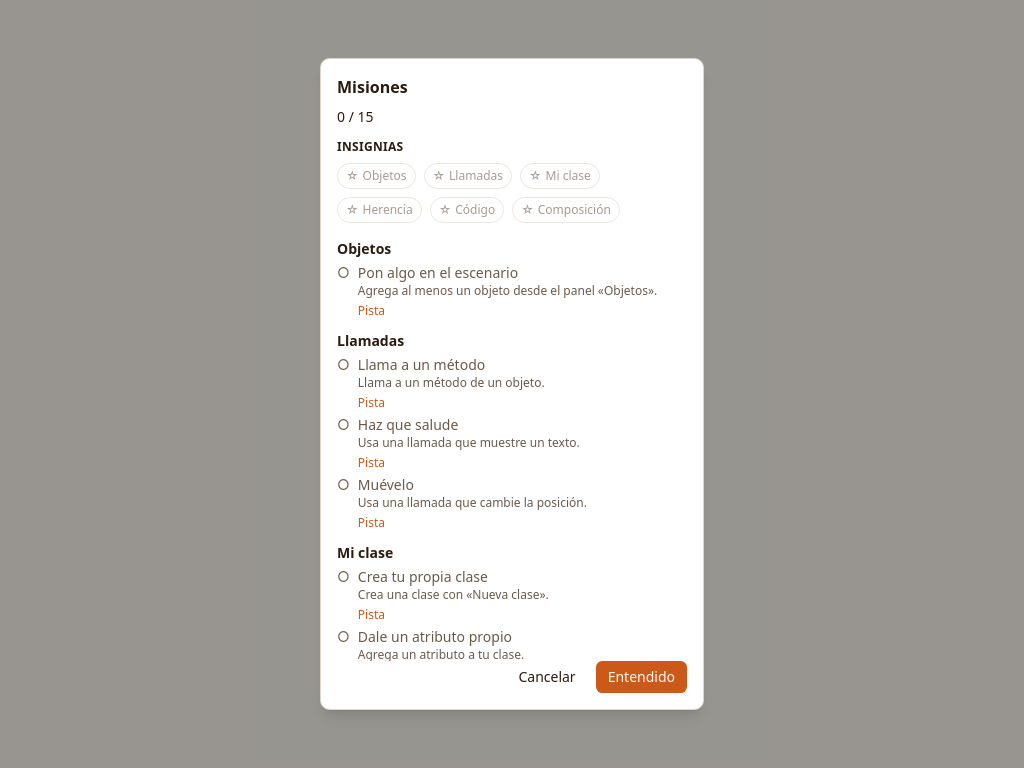
it: MissionsDialog › reveals hints progressively
The width and height of the screenshot is (1024, 768).
Click the button "Pista" below "Pon algo en el escenario": point(371, 311) x1=358 y1=303 x2=385 y2=319
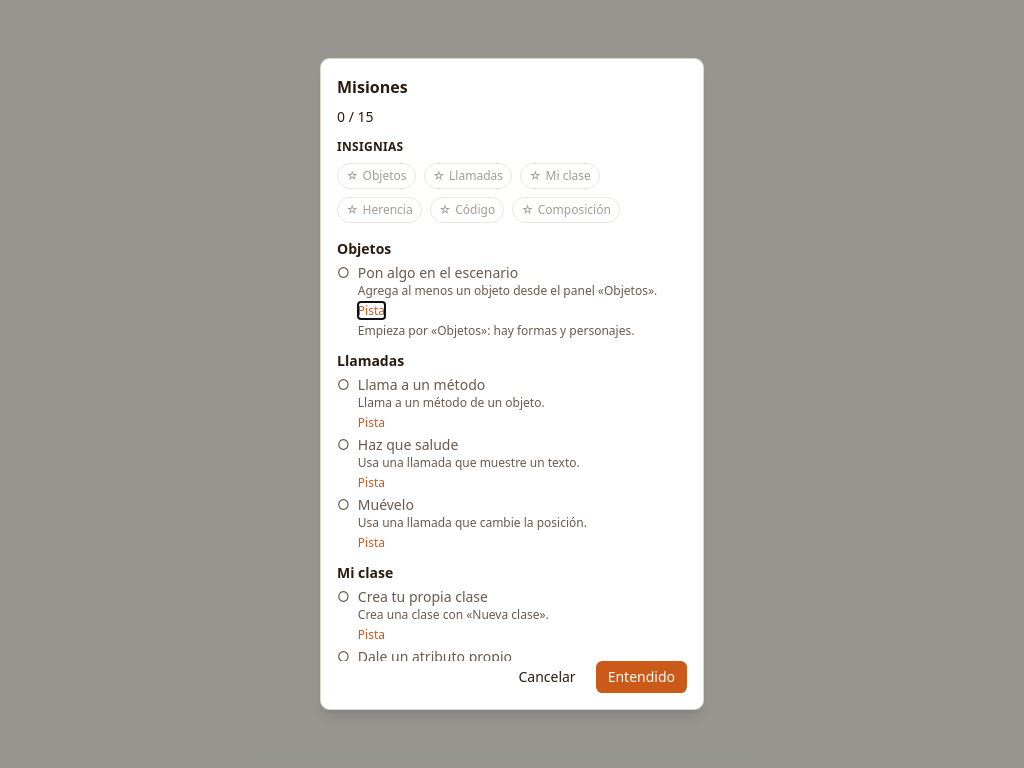
Check: the text "Empieza por «Objetos»: hay formas y personajes." is shown, box x1=358 y1=323 x2=657 y2=339
Click the button "Pista" below "Pon algo en el escenario": point(371, 311) x1=358 y1=303 x2=385 y2=319
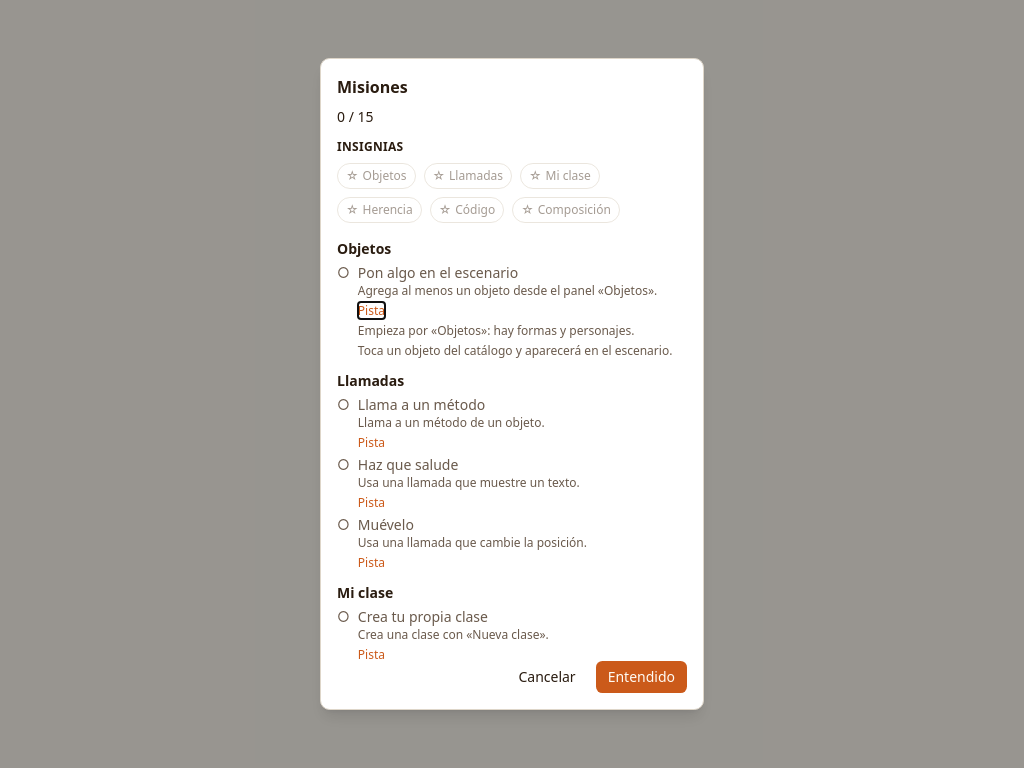
Check: the text "Toca un objeto del catálogo y aparecerá en el escenario." is shown, box x1=358 y1=343 x2=672 y2=359
